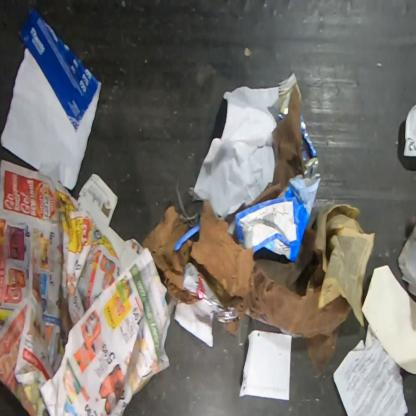cardboard: (234, 171, 322, 263)
metal: (276, 70, 320, 178)
